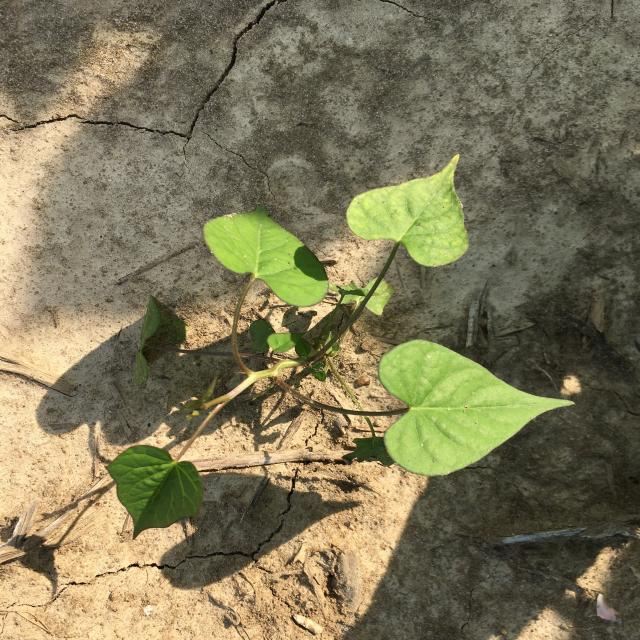MorningGlory: (103, 153, 574, 540)
